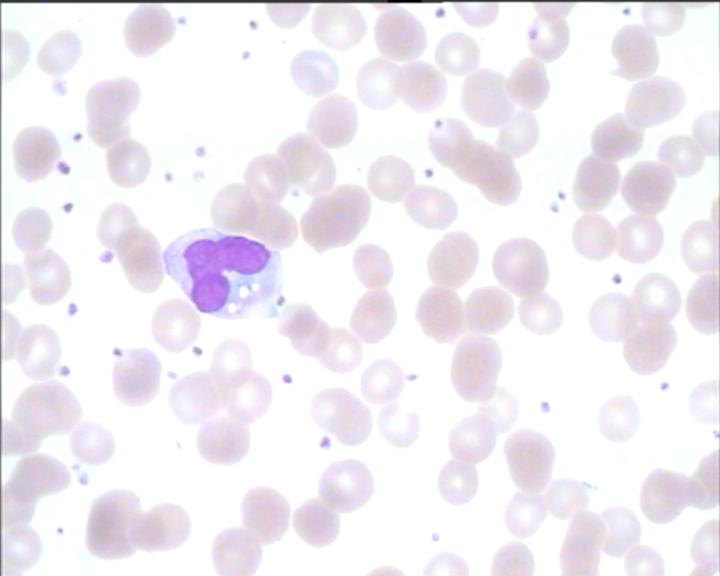mono: (161, 222, 288, 322)
